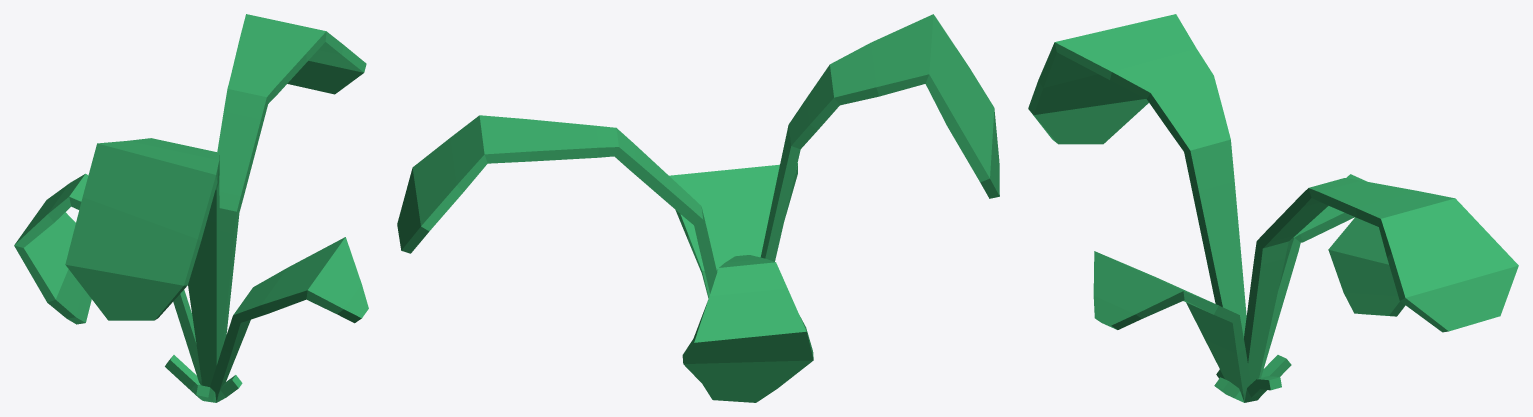
The model's file is plantFern_001_grp.fbx.
The picture shows the model from 3 angles, left to right: view 1: azimuth 30°, elevation 25°; view 2: azimuth 150°, elevation 25°; view 3: azimuth 270°, elevation 25°; orthographic projection. The views are drawn at different scales.
Parts seen in each view (by area): view 1: plantFern_001_grp; view 2: plantFern_001_grp; view 3: plantFern_001_grp.
Part boxes in pixels (left/top/right/bottom): plantFern_001_grp: left=14, top=14, right=368, bottom=402; plantFern_001_grp: left=397, top=14, right=999, bottom=402; plantFern_001_grp: left=1028, top=14, right=1518, bottom=402.
Size of the model in its own units: 250 by 175 by 250.
